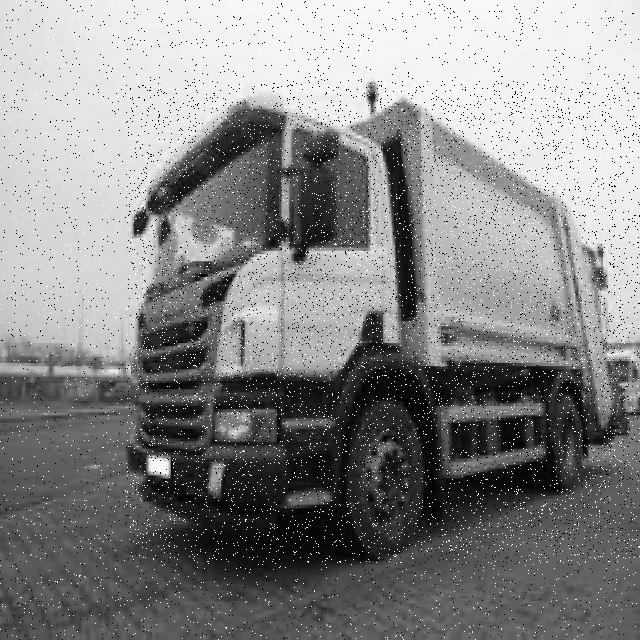Garbage Truck: (126, 80, 640, 563)
